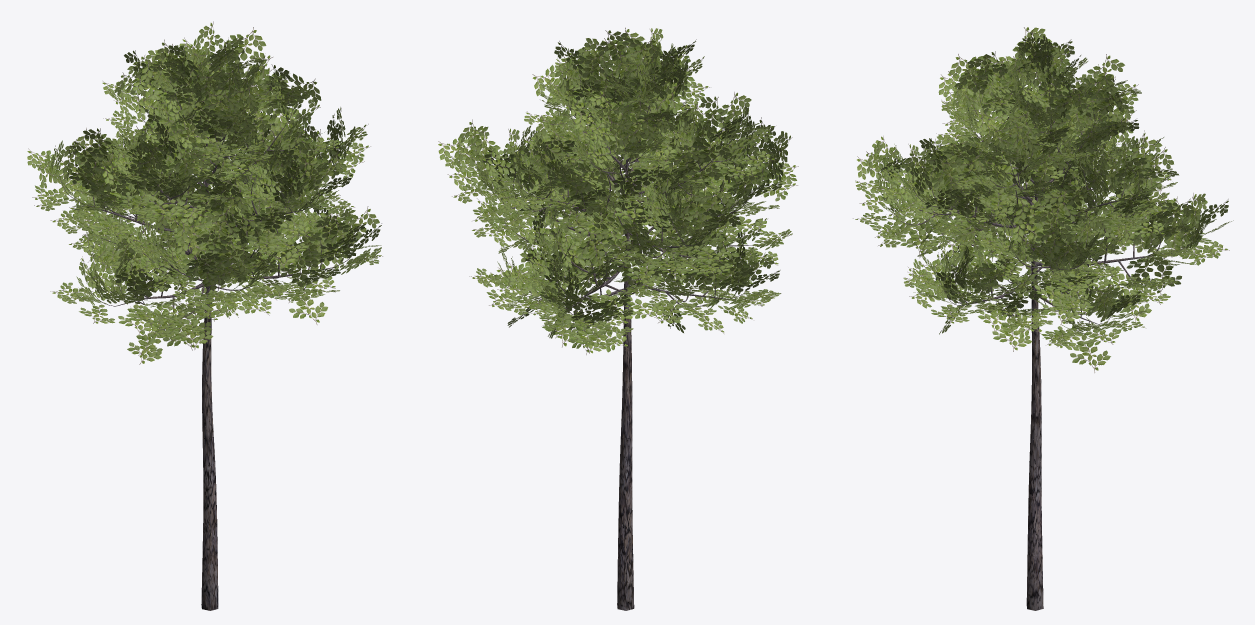
Rendered from tree01.obj.
3 views of the same model, side by side, from view 1: azimuth 30°, elevation 25°; view 2: azimuth 150°, elevation 25°; view 3: azimuth 270°, elevation 25° (orthographic).
Visible parts, largest first — view 1: leaves, tree; view 2: leaves, tree; view 3: leaves, tree.
Part boxes in pixels (<box>): leaves: <box>27,21,382,364</box>; tree: <box>59,66,354,610</box>; leaves: <box>438,27,798,354</box>; tree: <box>474,65,762,610</box>; leaves: <box>853,27,1233,372</box>; tree: <box>888,69,1198,610</box>.
Bounding box in the file's own units: 3.18 × 5.26 × 3.26.
2 materials, 2 textured.
